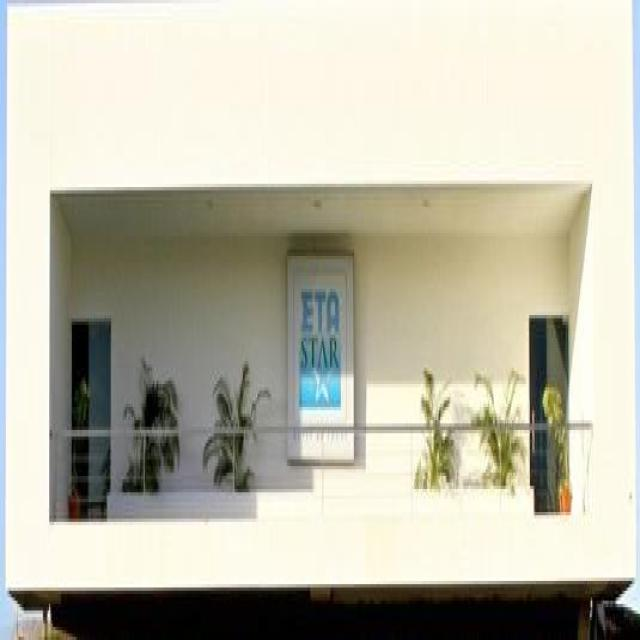door: (67, 311, 112, 521), (529, 318, 571, 524)
